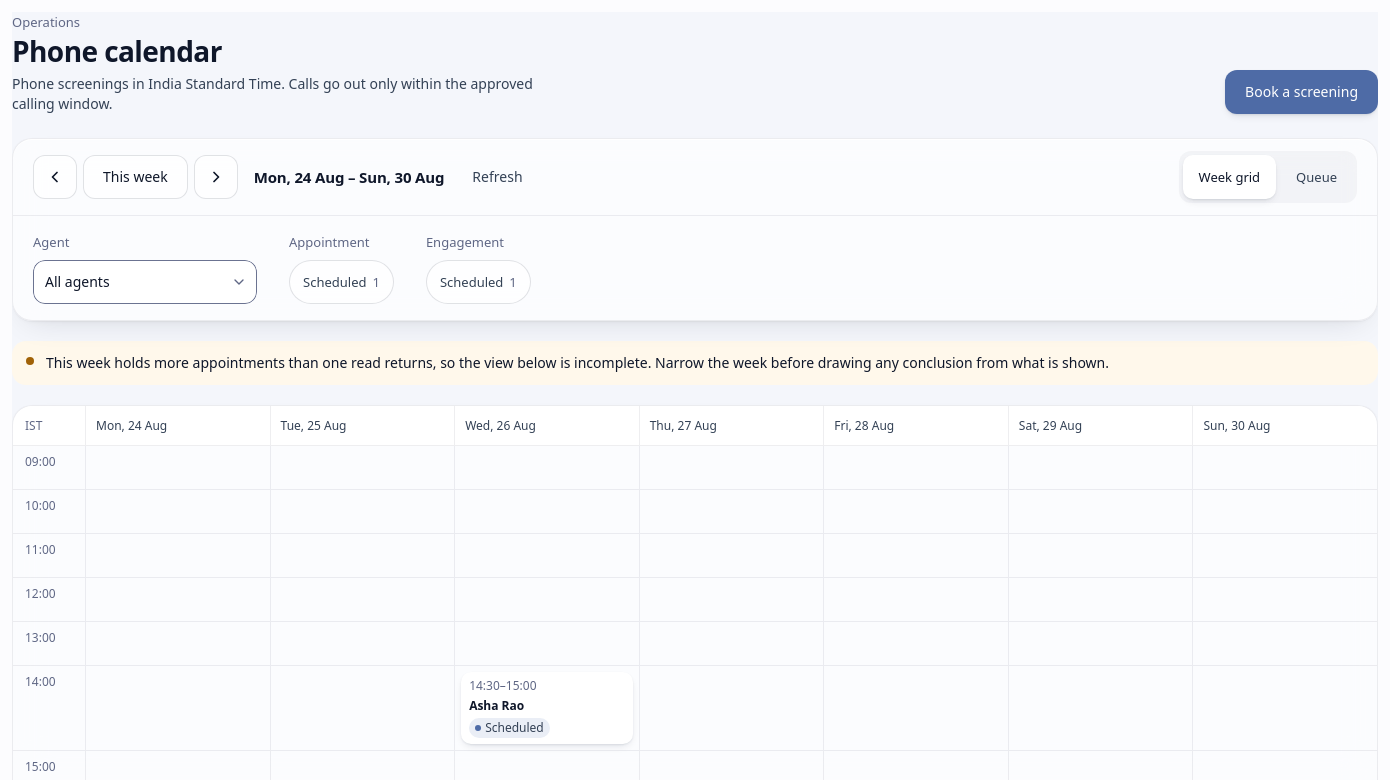
Test case: candidate callback confirmation evidence › reports a truncated week and a truncated occupancy as separate facts
The width and height of the screenshot is (1390, 780).
Click the button "Book a screening". click: (1302,92)
box: [1225,70,1378,114]
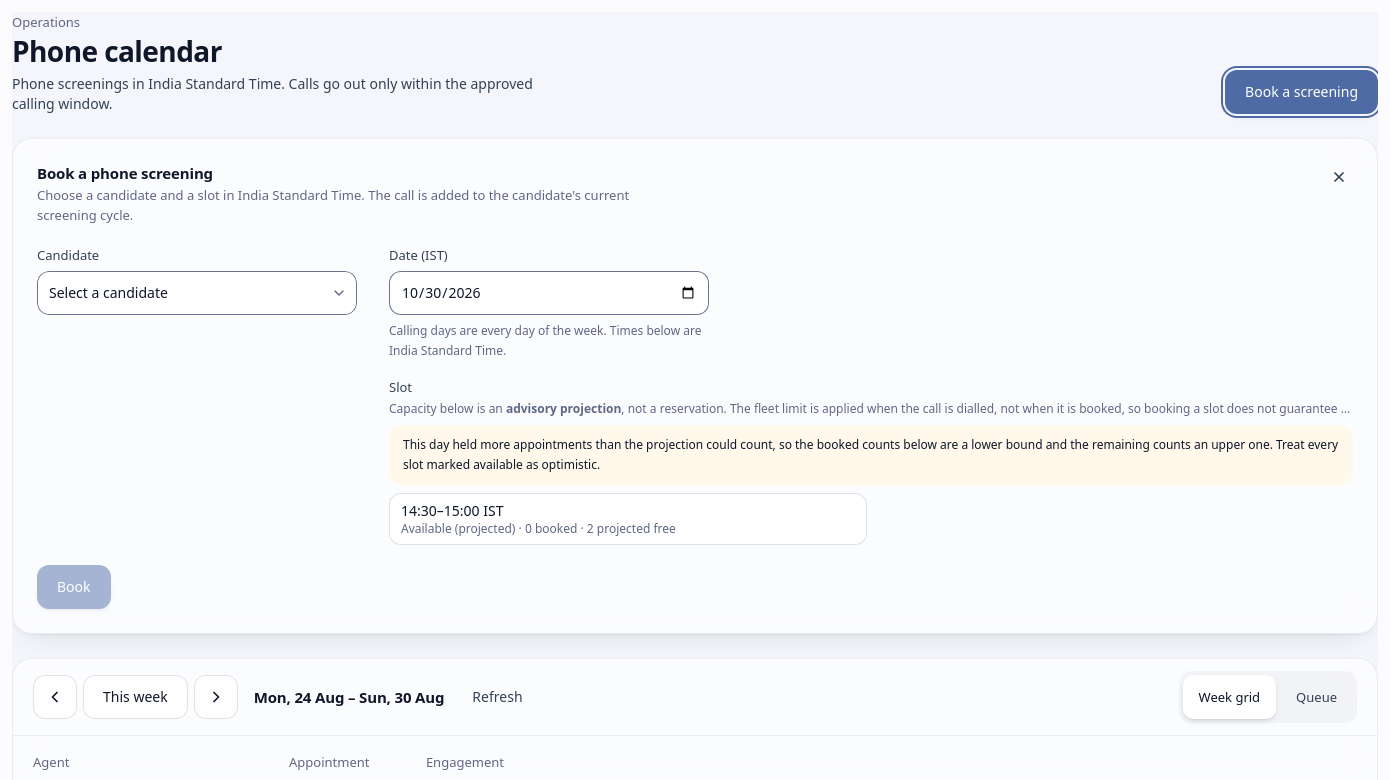
Check: the text "lower bound" is shown, box [403,436,1338,473]
